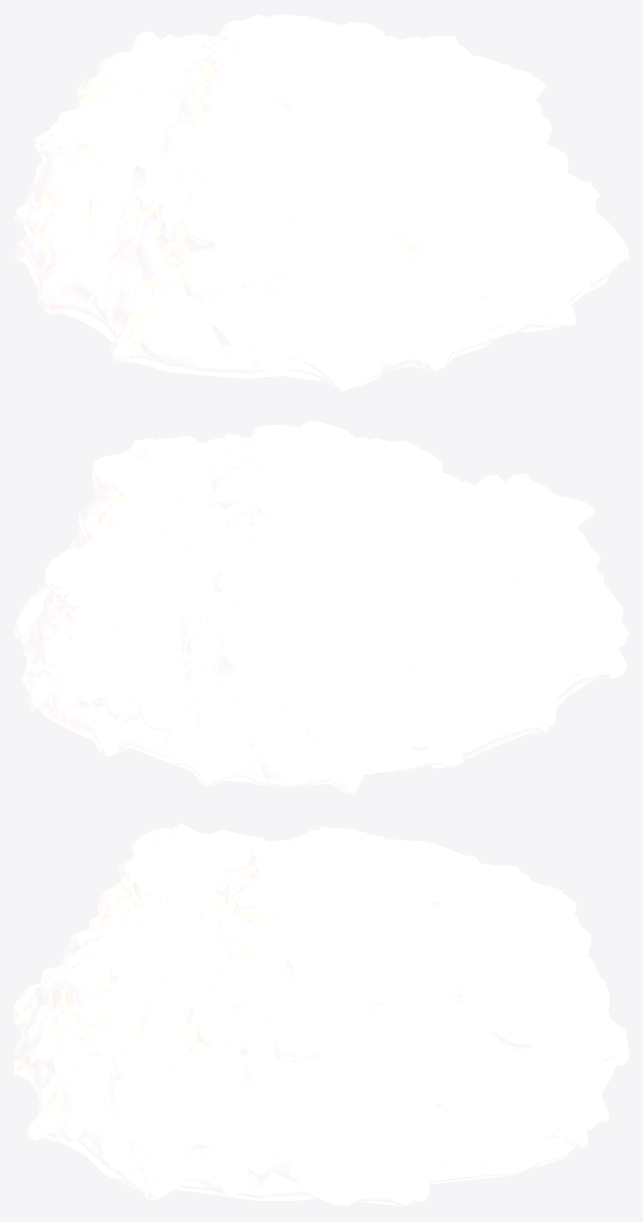
File: massa-lava.glb
3 views of the same model, one above another, from view 1: azimuth 30°, elevation 25°; view 2: azimuth 150°, elevation 25°; view 3: azimuth 270°, elevation 25° (orthographic). The views are drawn at different scales.
Visible parts, largest first — view 1: mesh_node; view 2: mesh_node; view 3: mesh_node.
Part boxes in pixels (left/top/right/bottom): mesh_node: left=14, top=14, right=628, bottom=391; mesh_node: left=14, top=420, right=628, bottom=794; mesh_node: left=14, top=823, right=628, bottom=1207.
Size of the model in its own units: 1 by 0.4453 by 1.
Materials: 1 (1 with a texture image).
